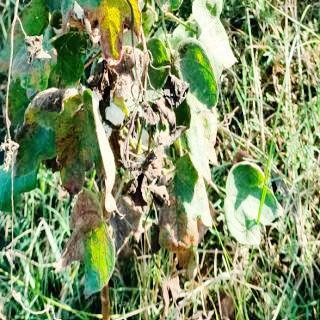blight: (13, 0, 230, 320)
